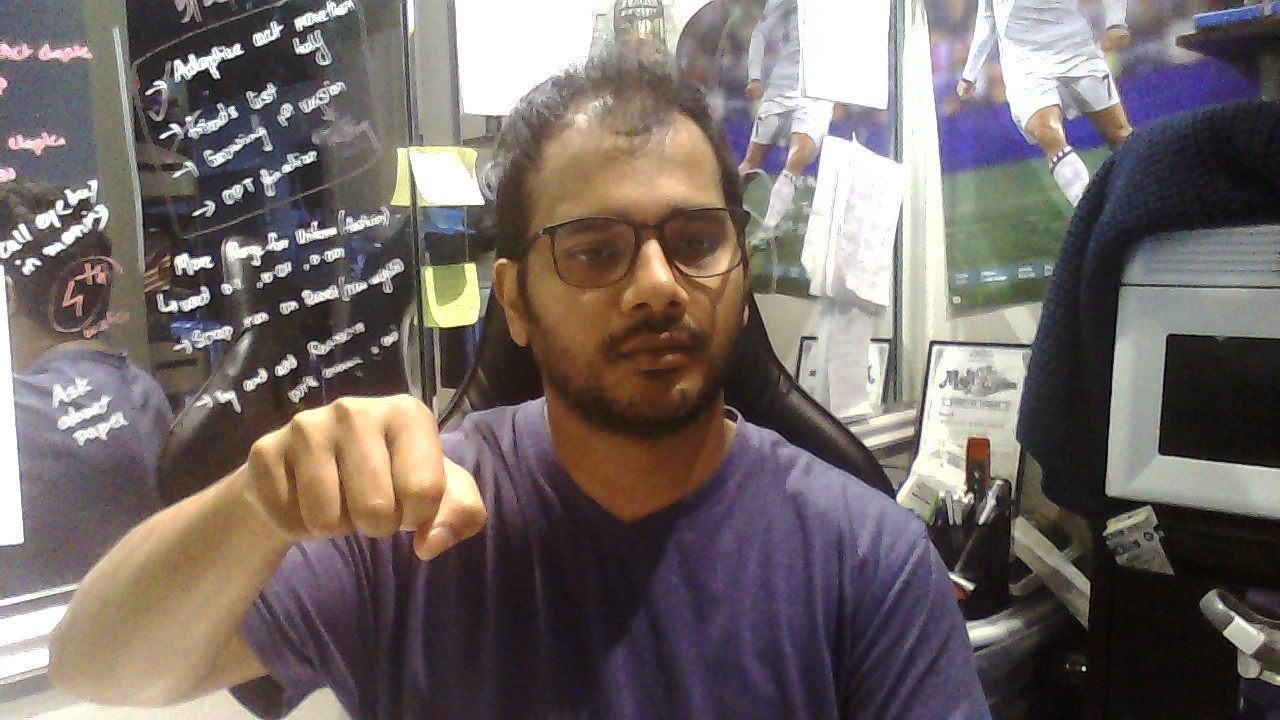Yes: (247, 394, 487, 561)
